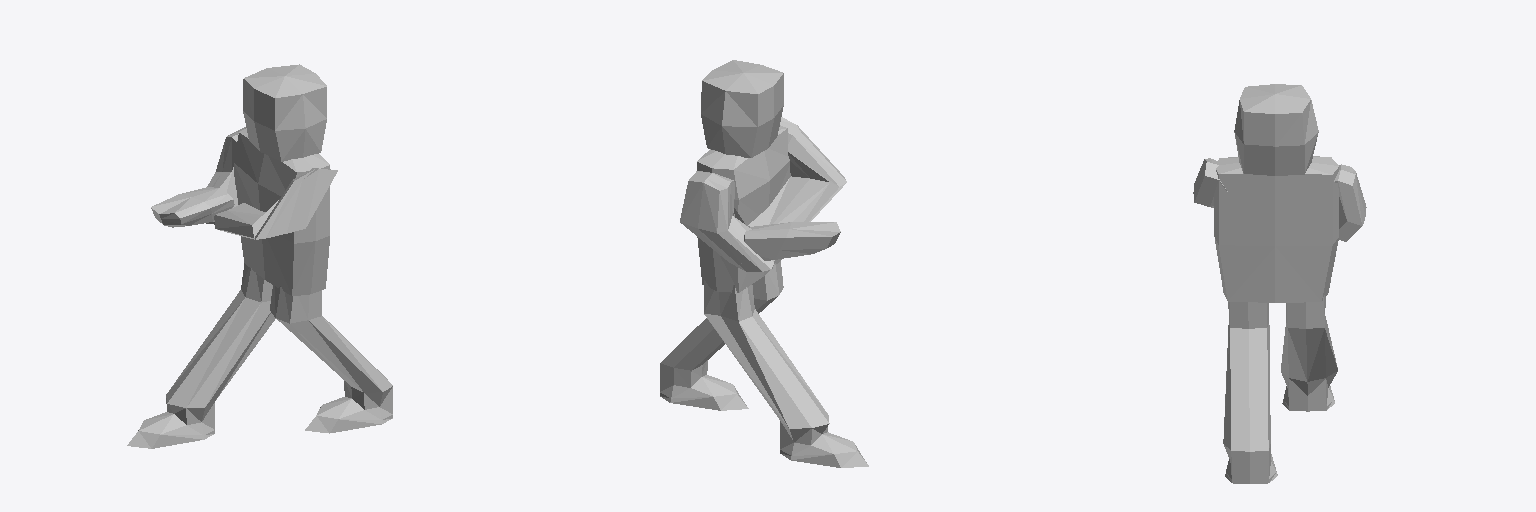
Rendered from grunt.obj.
3 renders of one model, left to right at view 1: azimuth 30°, elevation 25°; view 2: azimuth 150°, elevation 25°; view 3: azimuth 270°, elevation 25°, orthographic.
Visible parts, largest first — view 1: leg1_cube, BODY_cube.002, leg2_cube.003, HEAD_cube.001, BODY.001_cube.004, Gun_cube.006, BODY.002_cube.005; view 2: leg1_cube, HEAD_cube.001, BODY_cube.002, leg2_cube.003, BODY.002_cube.005, BODY.001_cube.004, Gun_cube.006; view 3: BODY_cube.002, leg2_cube.003, HEAD_cube.001, leg1_cube, BODY.002_cube.005, BODY.001_cube.004.
Part boxes in pixels (bbox=[...]): leg1_cube: bbox=[127, 263, 275, 448]; BODY_cube.002: bbox=[234, 128, 329, 295]; leg2_cube.003: bbox=[270, 285, 392, 433]; HEAD_cube.001: bbox=[243, 64, 326, 161]; BODY.001_cube.004: bbox=[214, 168, 337, 239]; Gun_cube.006: bbox=[151, 187, 234, 227]; BODY.002_cube.005: bbox=[206, 127, 245, 224]; leg1_cube: bbox=[704, 280, 868, 467]; HEAD_cube.001: bbox=[701, 60, 783, 157]; BODY_cube.002: bbox=[697, 125, 790, 292]; leg2_cube.003: bbox=[660, 261, 783, 410]; BODY.002_cube.005: bbox=[680, 171, 774, 271]; BODY.001_cube.004: bbox=[748, 117, 846, 226]; Gun_cube.006: bbox=[741, 222, 840, 263]; BODY_cube.002: bbox=[1214, 156, 1338, 302]; leg2_cube.003: bbox=[1223, 302, 1277, 483]; HEAD_cube.001: bbox=[1234, 84, 1318, 175]; leg1_cube: bbox=[1281, 295, 1337, 411]; BODY.002_cube.005: bbox=[1334, 164, 1366, 241]; BODY.001_cube.004: bbox=[1193, 158, 1227, 207].
Size of the model in its own units: 4.85 by 7.03 by 3.16.